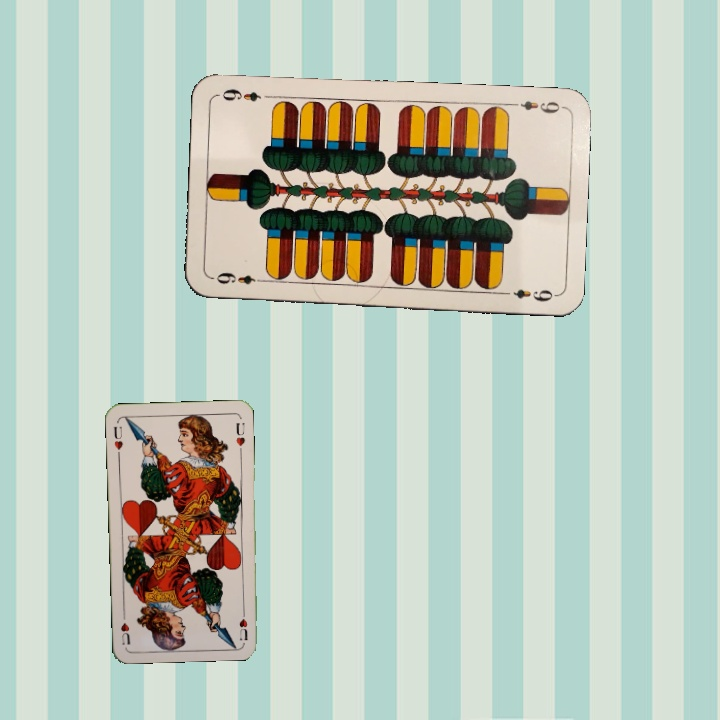E9: (506, 96, 565, 116), (209, 268, 268, 287)
HU: (235, 603, 250, 643), (110, 422, 125, 459)
